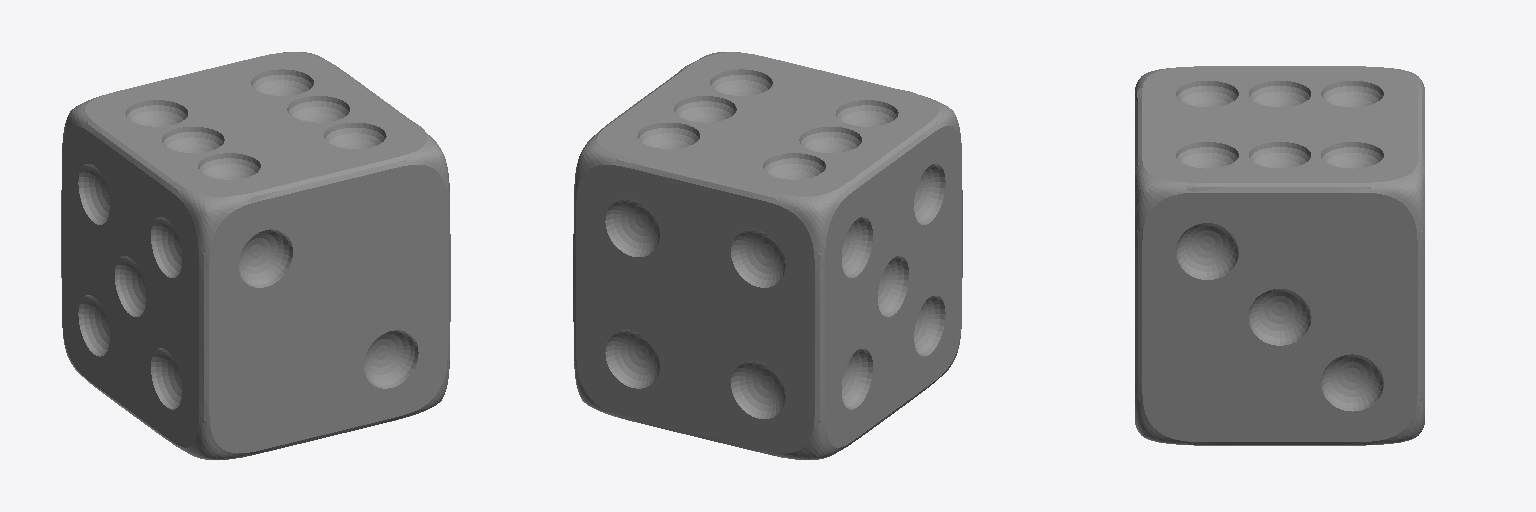
The model's file is gloss_dice.obj.
3 views of the same model, side by side, from view 1: azimuth 30°, elevation 25°; view 2: azimuth 150°, elevation 25°; view 3: azimuth 270°, elevation 25° (orthographic).
Visible parts, largest first — view 1: g_Dice_meshId0_name, g_Holes_meshId1_name; view 2: g_Dice_meshId0_name, g_Holes_meshId1_name; view 3: g_Dice_meshId0_name, g_Holes_meshId1_name.
Part boxes in pixels (bbox=[...]): g_Dice_meshId0_name: bbox=[61, 52, 450, 459]; g_Holes_meshId1_name: bbox=[78, 69, 418, 409]; g_Dice_meshId0_name: bbox=[573, 52, 962, 459]; g_Holes_meshId1_name: bbox=[605, 69, 945, 418]; g_Dice_meshId0_name: bbox=[1135, 66, 1424, 445]; g_Holes_meshId1_name: bbox=[1176, 81, 1383, 411].
Size of the model in its own units: 0.02 by 0.02 by 0.02.